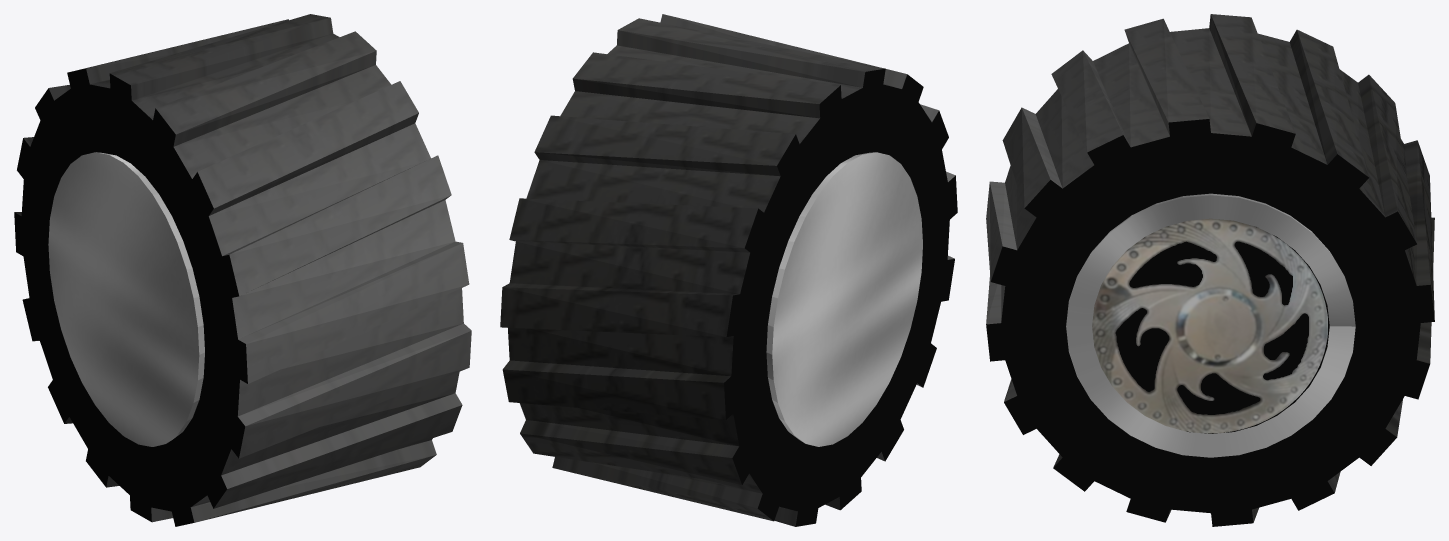
The model's file is wheel.obj.
The picture shows the model from 3 angles, left to right: view 1: azimuth 30°, elevation 25°; view 2: azimuth 150°, elevation 25°; view 3: azimuth 270°, elevation 25°; orthographic projection. The views are drawn at different scales.
Visible parts, largest first — view 1: Cylinder; view 2: Cylinder; view 3: Cylinder.
Part boxes in pixels (x1=…): Cylinder: x1=14, y1=14, x2=471, y2=526; Cylinder: x1=500, y1=14, x2=957, y2=526; Cylinder: x1=986, y1=14, x2=1434, y2=526.
Size of the model in its own units: 0.896 by 1.53 by 1.52.
